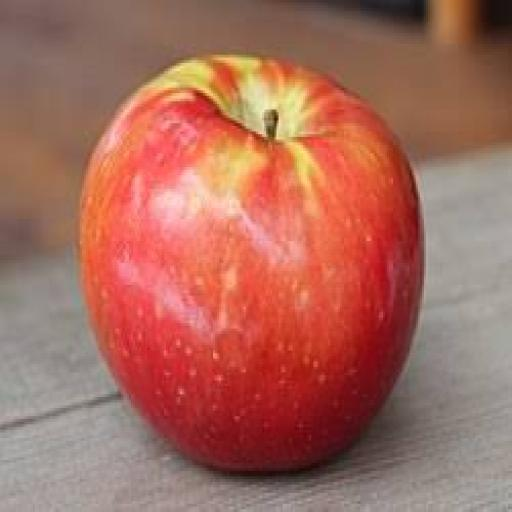apple: (80, 58, 423, 470)
